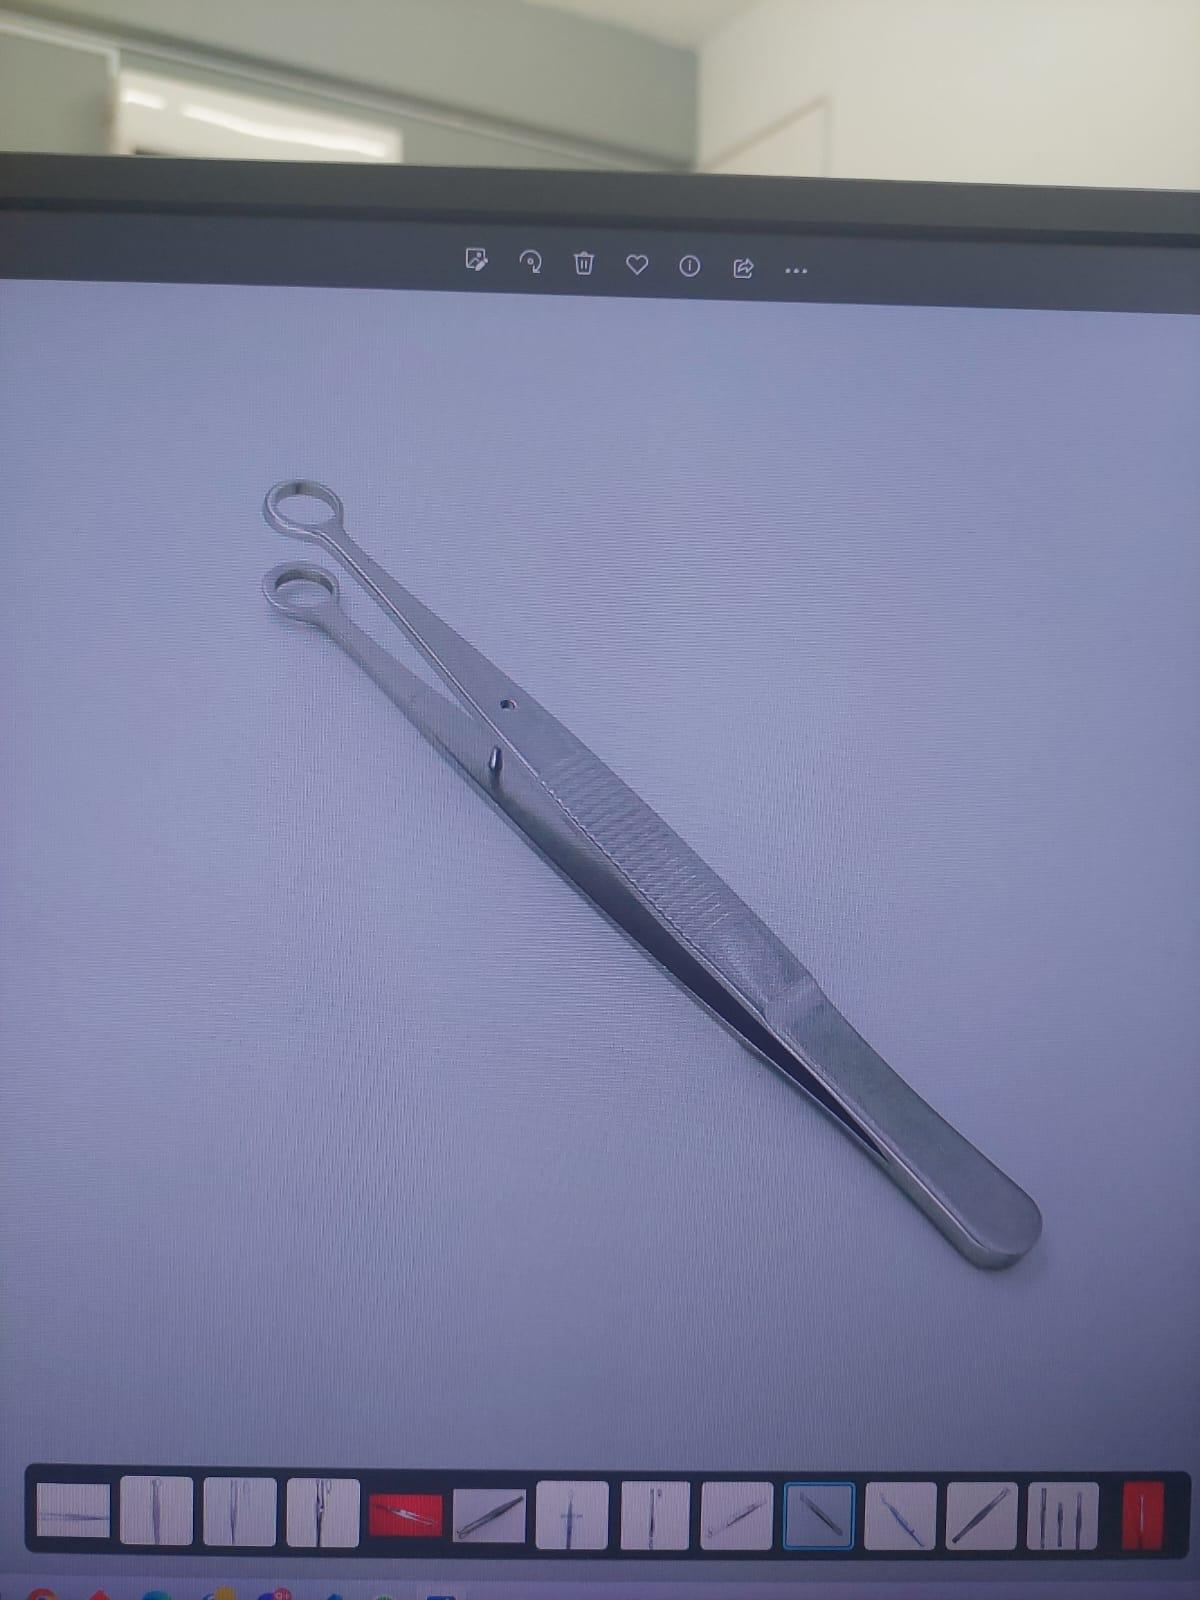Eye Intestinal Forceps: (237, 457, 1058, 1285)
